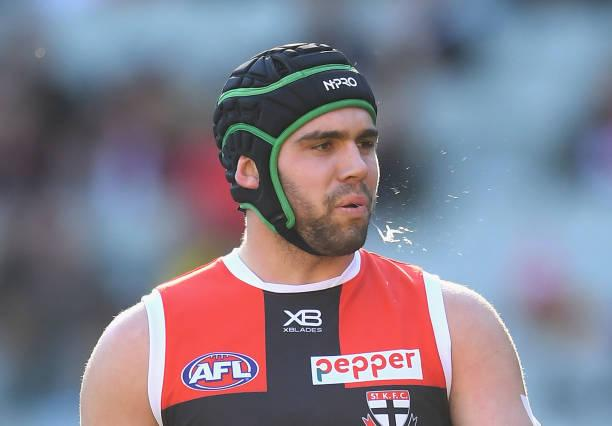Spitting: (208, 34, 438, 258)
